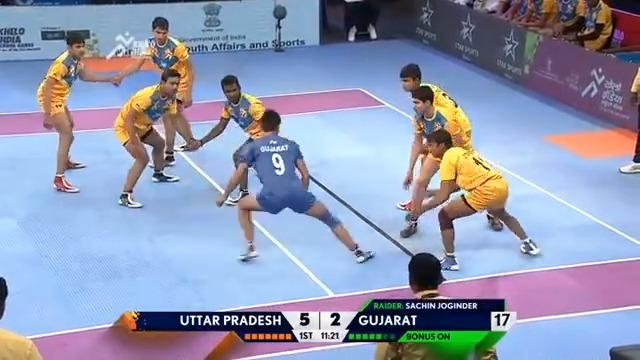Player: (399, 128, 540, 271), (397, 62, 505, 234), (373, 252, 506, 359), (36, 31, 119, 193), (112, 16, 198, 167), (178, 74, 265, 206), (113, 67, 182, 208), (618, 66, 639, 174)
Raider: (215, 108, 375, 264)
referee: (341, 0, 380, 42)
